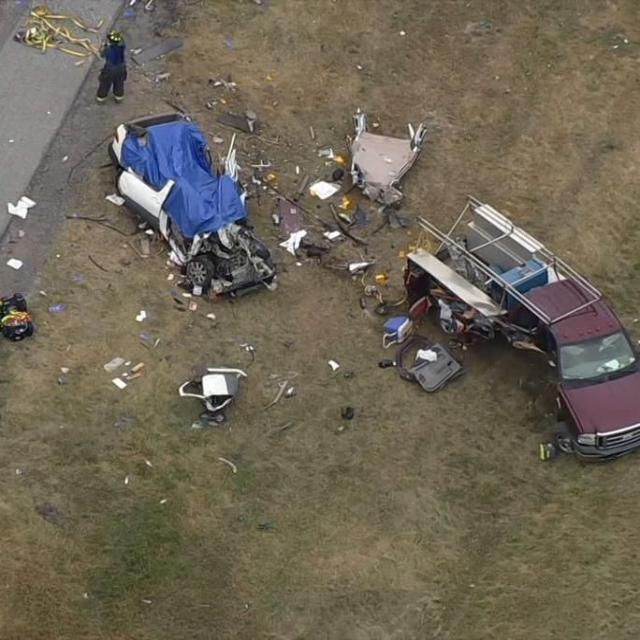traffic_incident: (409, 175, 639, 468), (100, 104, 279, 327)
